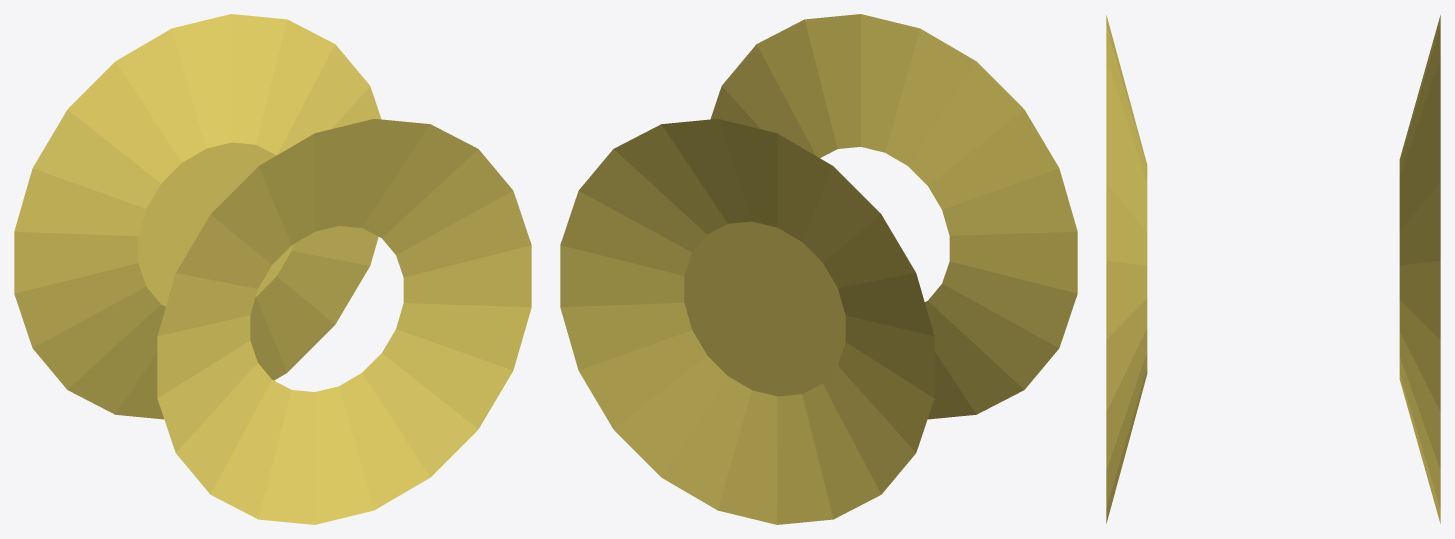
Rendered from left_hubcap.dae.
3 renders of one model, left to right at view 1: azimuth 30°, elevation 25°; view 2: azimuth 150°, elevation 25°; view 3: azimuth 270°, elevation 25°, orthographic. The views are drawn at different scales.
Parts seen in each view (by area): view 1: Left_Hubcap; view 2: Left_Hubcap; view 3: Left_Hubcap.
Part boxes in pixels (left/top/right/bottom): Left_Hubcap: left=14, top=14, right=531, bottom=524; Left_Hubcap: left=560, top=14, right=1077, bottom=524; Left_Hubcap: left=1106, top=15, right=1440, bottom=523.
Size of the model in its own units: 0.1076 by 0.0712 by 0.1076.
